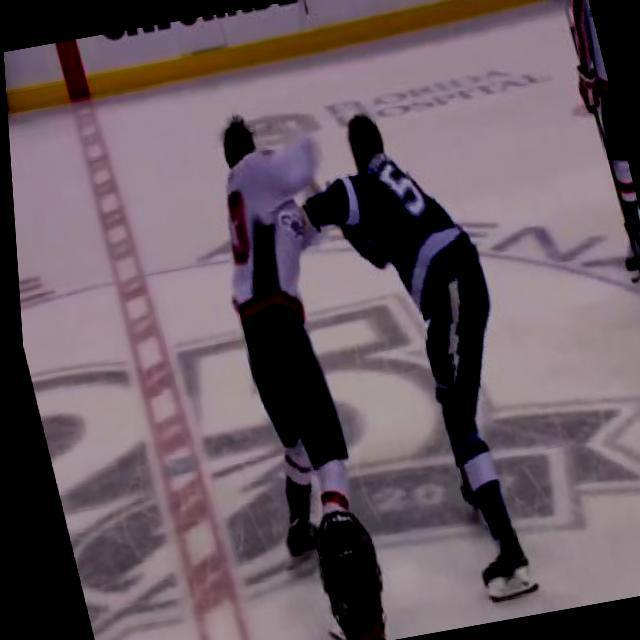fight: (184, 93, 547, 596)
